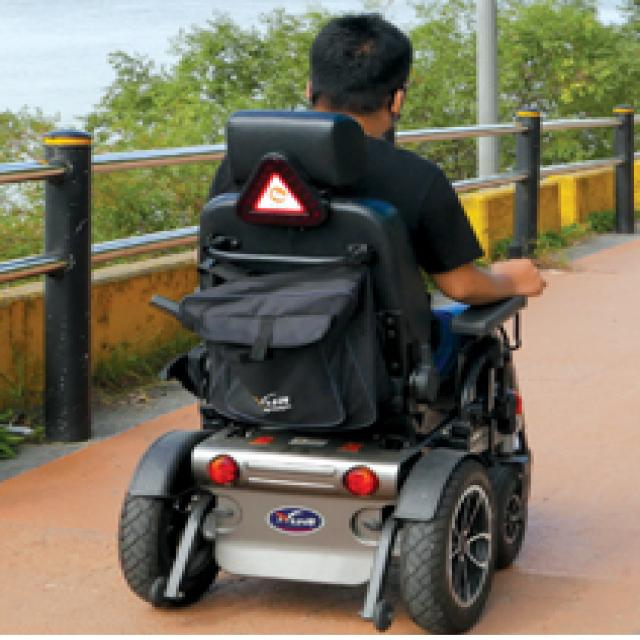wheelchair: (114, 14, 539, 632)
